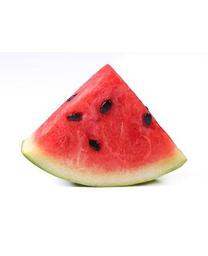watermelon: (22, 65, 188, 185)
